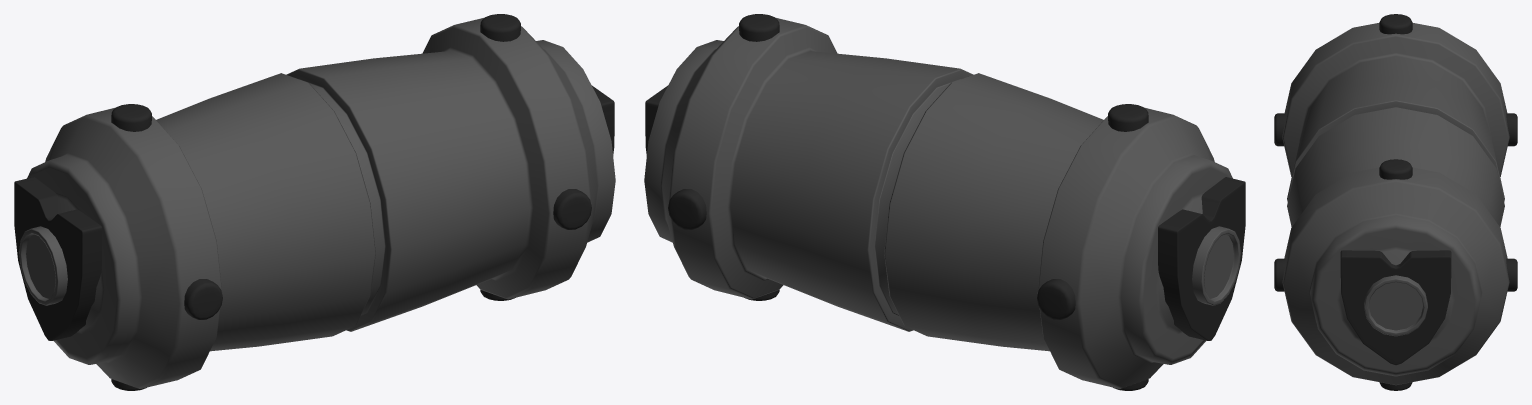
Rendered from _Small_battery_armor.fbx.
The picture shows the model from 3 angles, left to right: view 1: azimuth 30°, elevation 25°; view 2: azimuth 150°, elevation 25°; view 3: azimuth 270°, elevation 25°; orthographic projection. The views are drawn at different scales.
Parts seen in each view (by area): view 1: Small_battery_armor; view 2: Small_battery_armor; view 3: Small_battery_armor.
Part boxes in pixels (<box>): Small_battery_armor: <box>14,14,615,390</box>; Small_battery_armor: <box>644,14,1245,390</box>; Small_battery_armor: <box>1274,14,1517,390</box>.
Size of the model in its own units: 134 by 63.57 by 63.57.
1 material, 1 textured.
